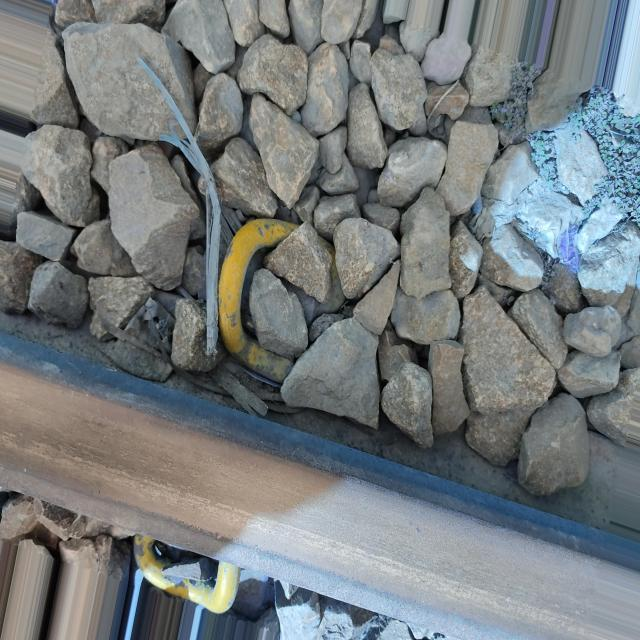Good Fasteners: (208, 216, 338, 384)
